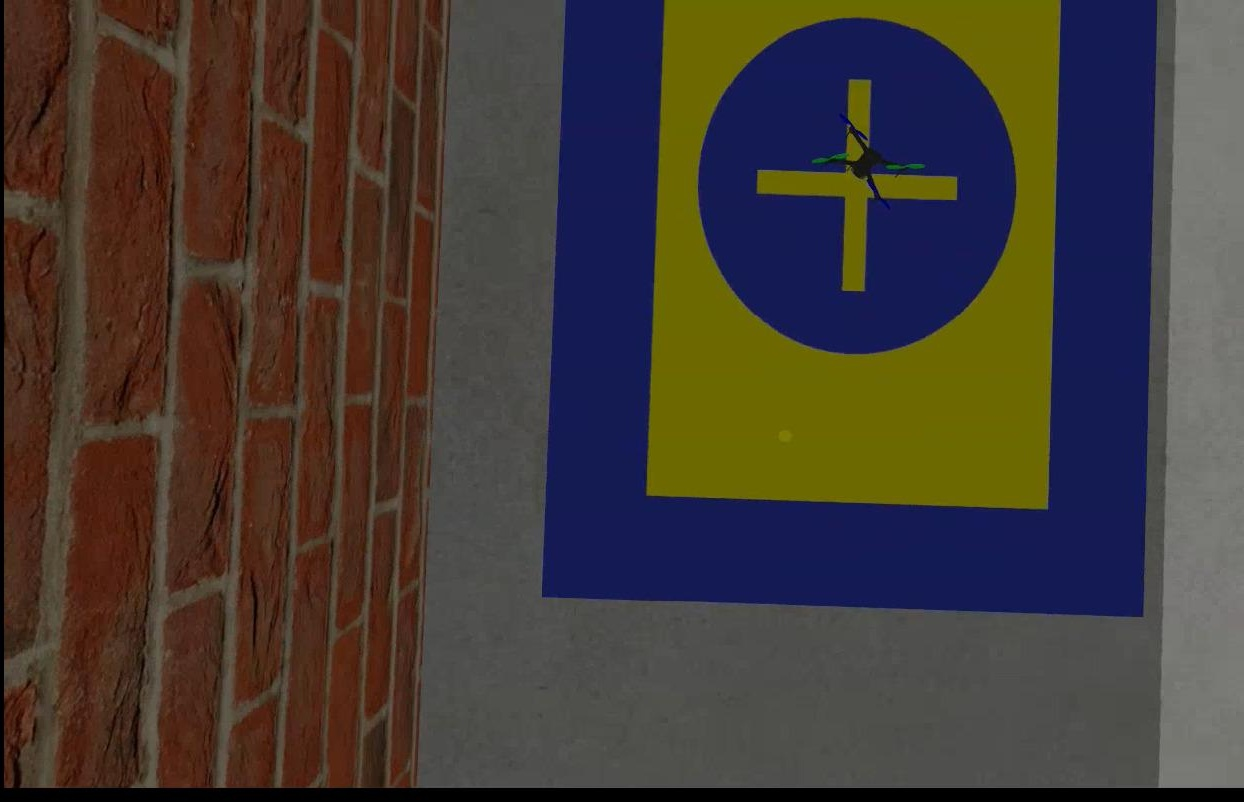large_base: (539, 1, 1159, 613)
